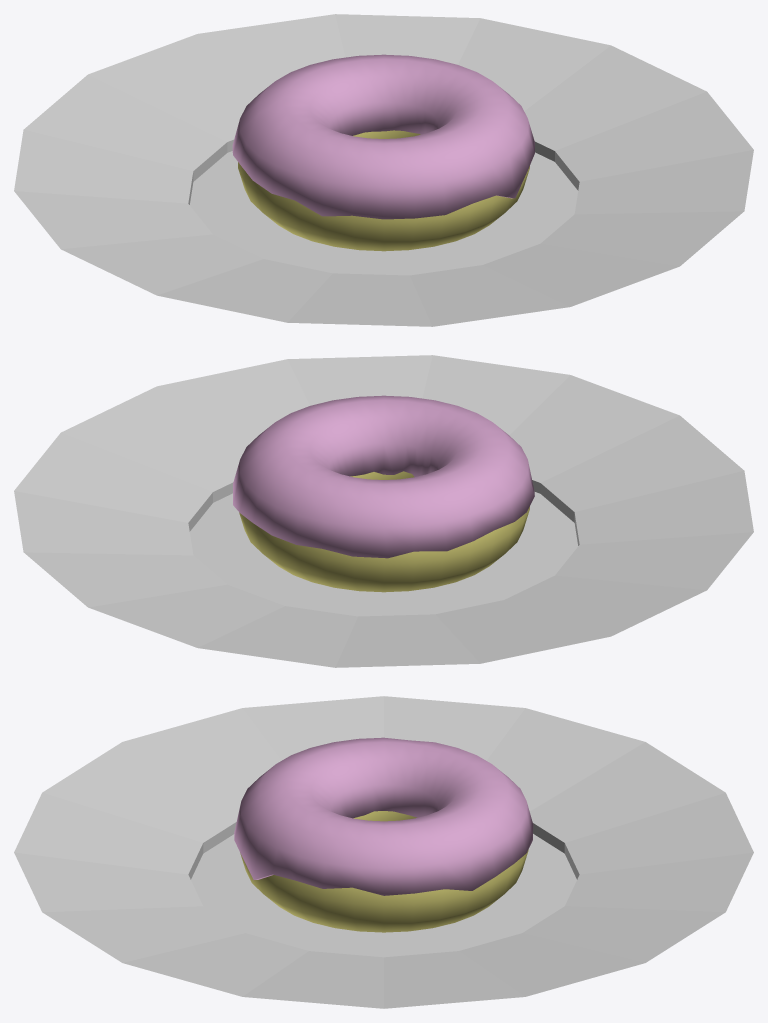
Rendered from mesa.gltf.
3 renders of one model, top to bottom at view 1: azimuth 30°, elevation 25°; view 2: azimuth 150°, elevation 25°; view 3: azimuth 270°, elevation 25°, orthographic.
Visible parts, largest first — view 1: plato, Torus.002, Torus.005; view 2: plato, Torus.002, Torus.005; view 3: plato, Torus.002, Torus.005.
Boxes of the visible parts, box(x1,y1,x2,y2) form: plato: box(14, 14, 753, 326); Torus.002: box(232, 54, 534, 219); Torus.005: box(238, 130, 529, 251); plato: box(14, 355, 753, 667); Torus.002: box(233, 395, 534, 558); Torus.005: box(239, 471, 529, 592); plato: box(14, 696, 753, 1008); Torus.002: box(234, 737, 533, 895); Torus.005: box(240, 811, 528, 932).
Size of what is drawn, in the model's own units: 4.67 by 0.7984 by 4.67.
